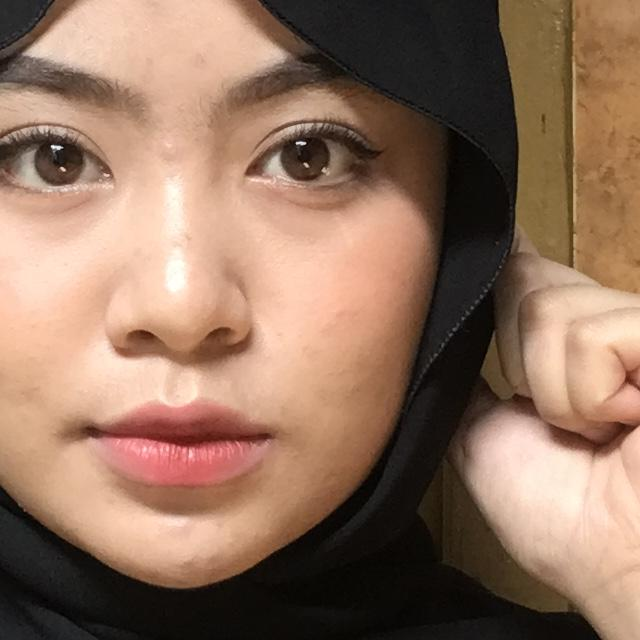ibu: (450, 156, 640, 640)
